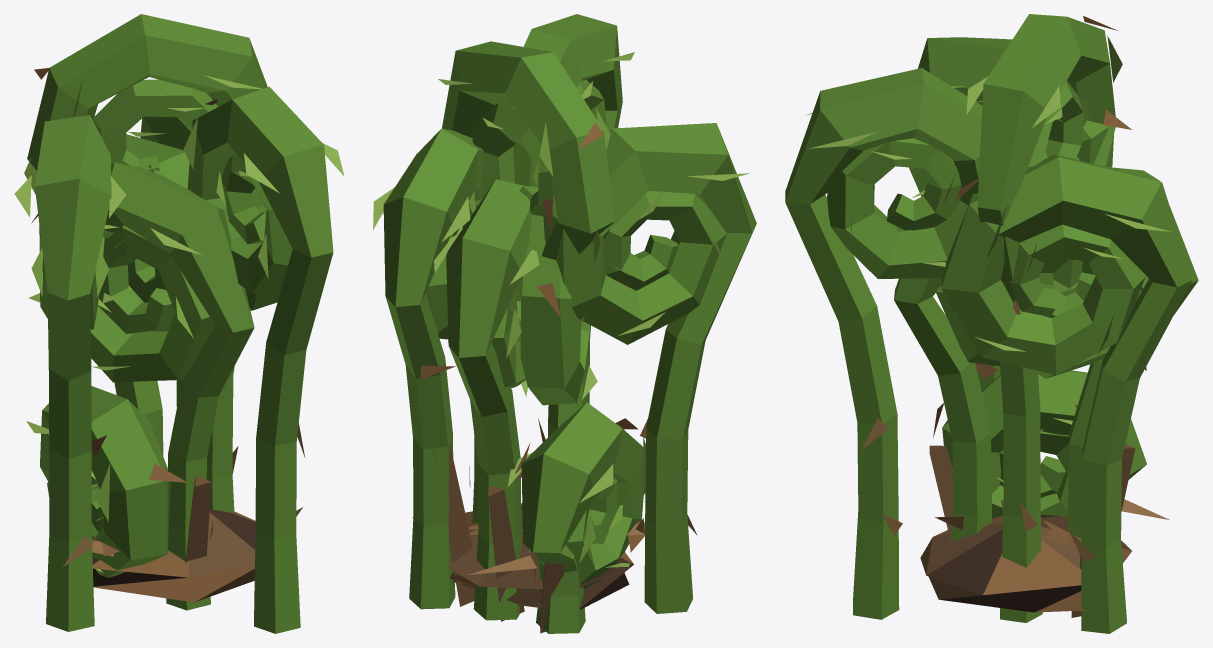
Rendered from fiddlehead2_v1.fbx.
3 renders of one model, left to right at view 1: azimuth 30°, elevation 25°; view 2: azimuth 150°, elevation 25°; view 3: azimuth 270°, elevation 25°, orthographic. The views are drawn at different scales.
Parts seen in each view (by area): view 1: fiddlehead2_v1; view 2: fiddlehead2_v1; view 3: fiddlehead2_v1.
Boxes of the visible parts, x1=… form: fiddlehead2_v1: x1=14, y1=14, x2=344, y2=633; fiddlehead2_v1: x1=373, y1=14, x2=756, y2=633; fiddlehead2_v1: x1=785, y1=14, x2=1198, y2=633.
Size of the model in its own units: 24.62 by 44.5 by 29.04.
